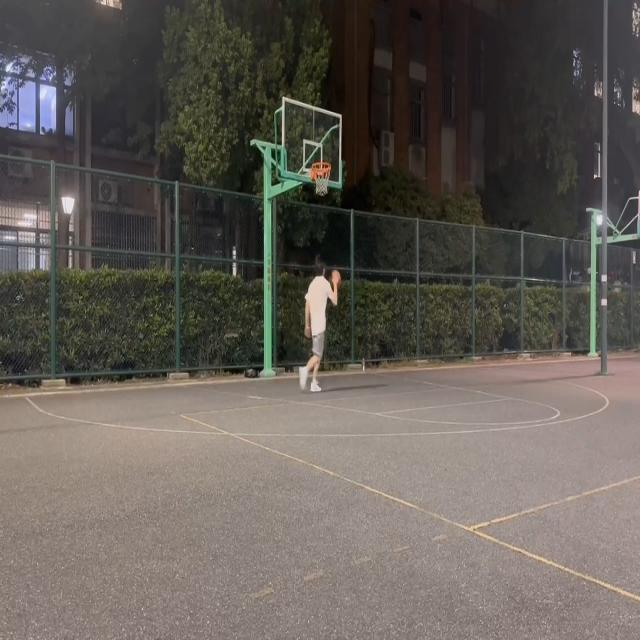basketball: (311, 161, 331, 197)
